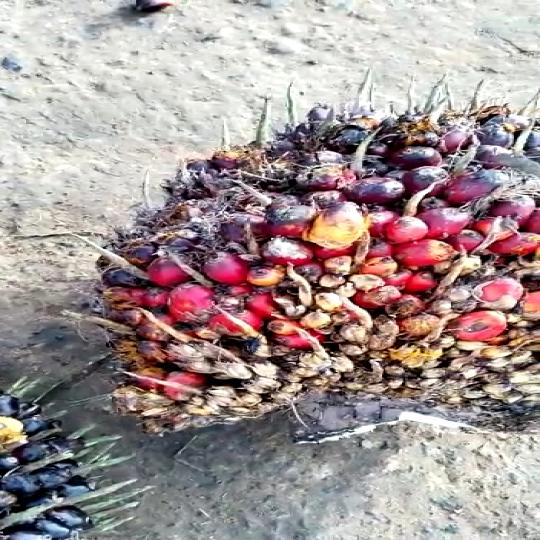masak: (90, 71, 540, 456)
